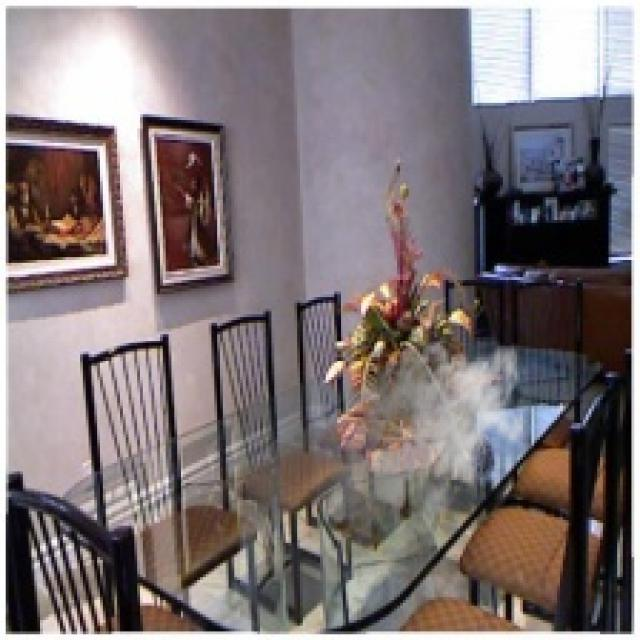Smoke: (326, 332, 526, 552)
